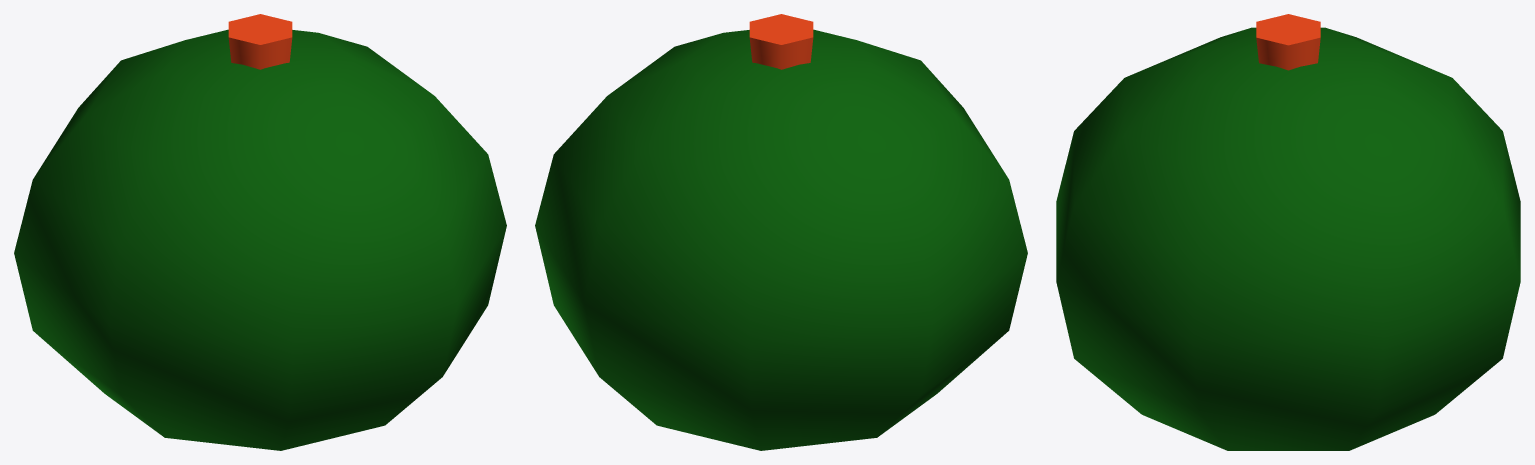
File: cai bap.FBX
3 renders of one model, left to right at view 1: azimuth 30°, elevation 25°; view 2: azimuth 150°, elevation 25°; view 3: azimuth 270°, elevation 25°, orthographic.
Parts seen in each view (by area): view 1: Sphere012; view 2: Sphere012; view 3: Sphere012.
Part boxes in pixels (x1=…): Sphere012: x1=14, y1=14, x2=506, y2=450; Sphere012: x1=535, y1=14, x2=1027, y2=450; Sphere012: x1=1056, y1=14, x2=1520, y2=450.
Bounding box in the file's own units: 1.69 × 1.44 × 1.69.
